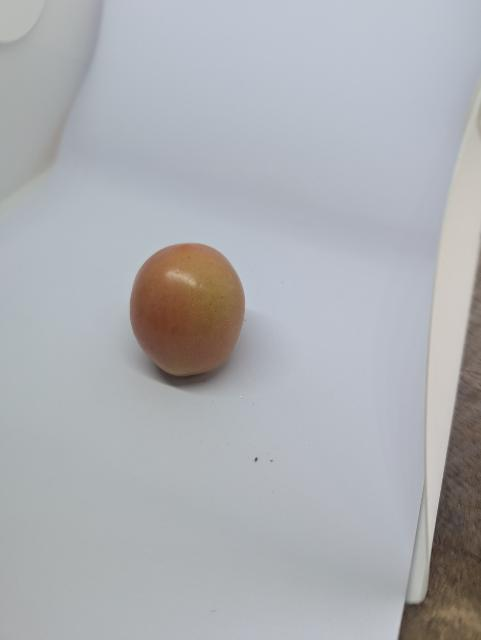turning: (127, 239, 249, 386)
